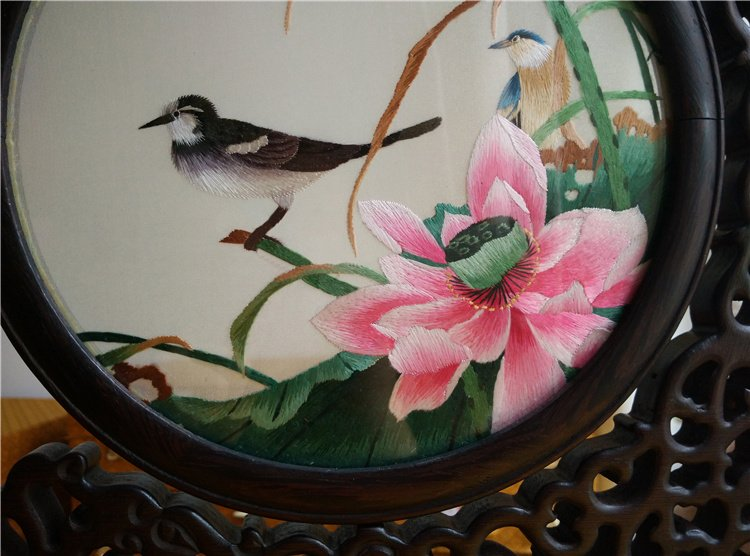bird: (134, 95, 467, 253), (487, 27, 576, 152)
lotus: (309, 113, 649, 428)
